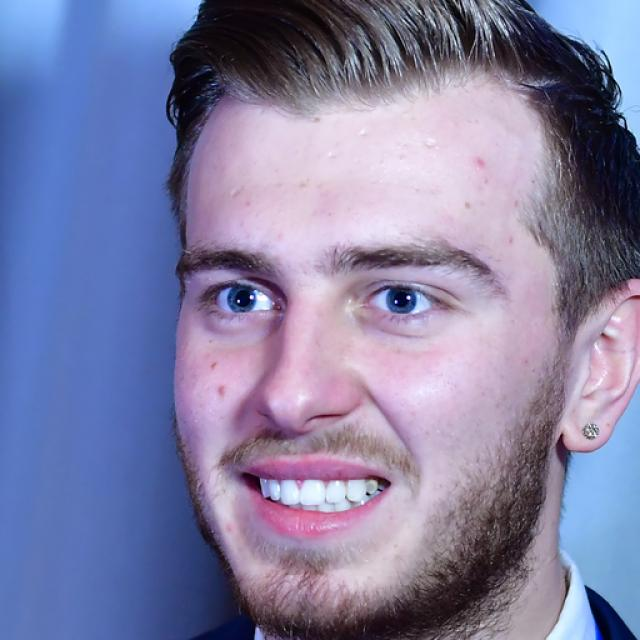Acne: (462, 153, 488, 175), (214, 379, 228, 406)
Spots: (457, 193, 479, 216), (203, 359, 228, 377)
